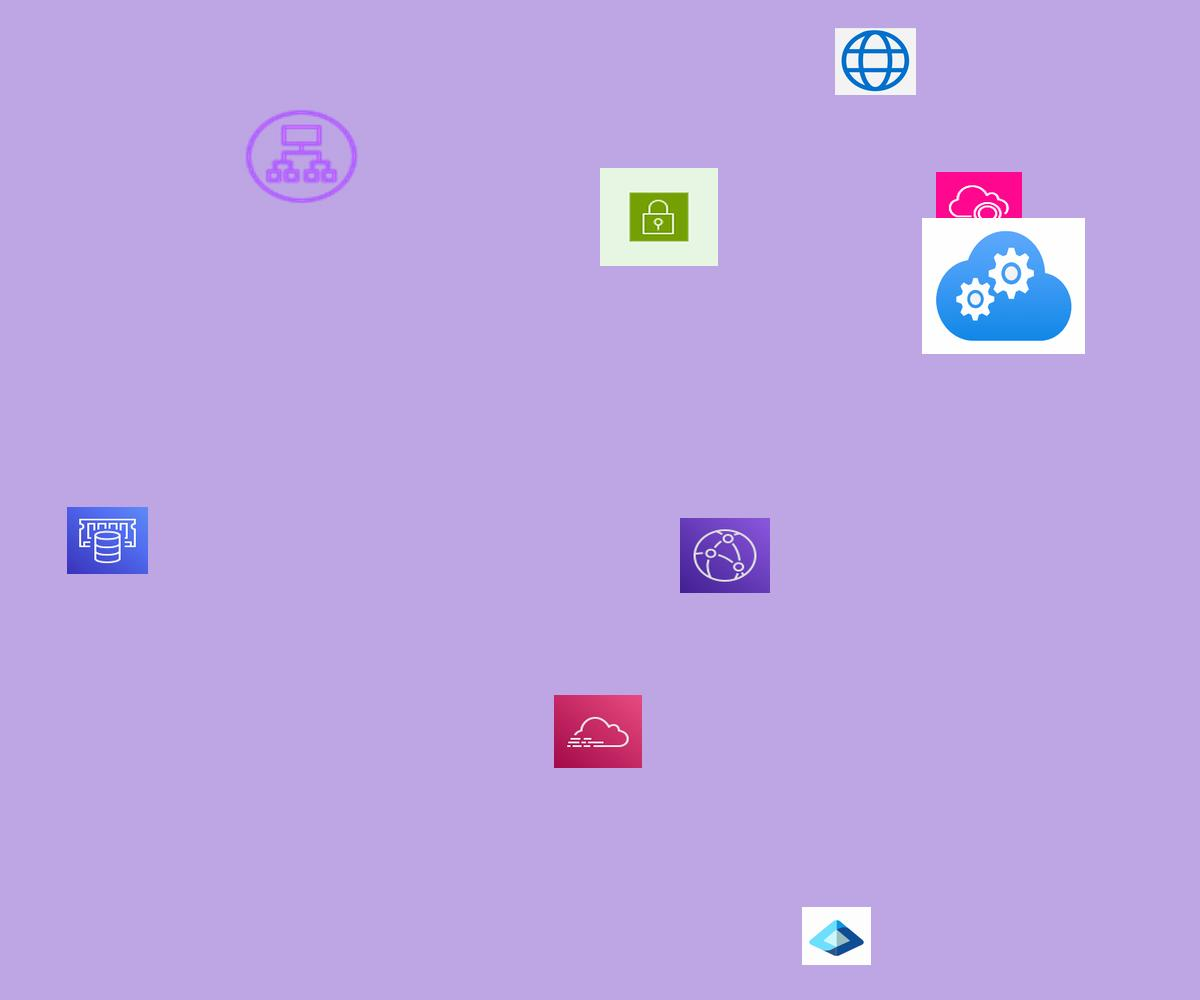AWS-CloudFront: (680, 518, 770, 593)
AWS-CloudTrail: (554, 695, 642, 768)
AWS-CloudWatch: (936, 172, 1022, 243)
AWS-ElastiCache: (67, 507, 148, 574)
AWS-Public-subnet: (600, 168, 718, 266)
AWS-Res_Elastic-Load-Balancing_Application-Load-Balancer: (241, 106, 362, 207)
Azure_cloud_services: (922, 218, 1085, 354)
Azure_http: (835, 28, 916, 95)
Azure_microsoft_entra: (802, 907, 871, 965)
